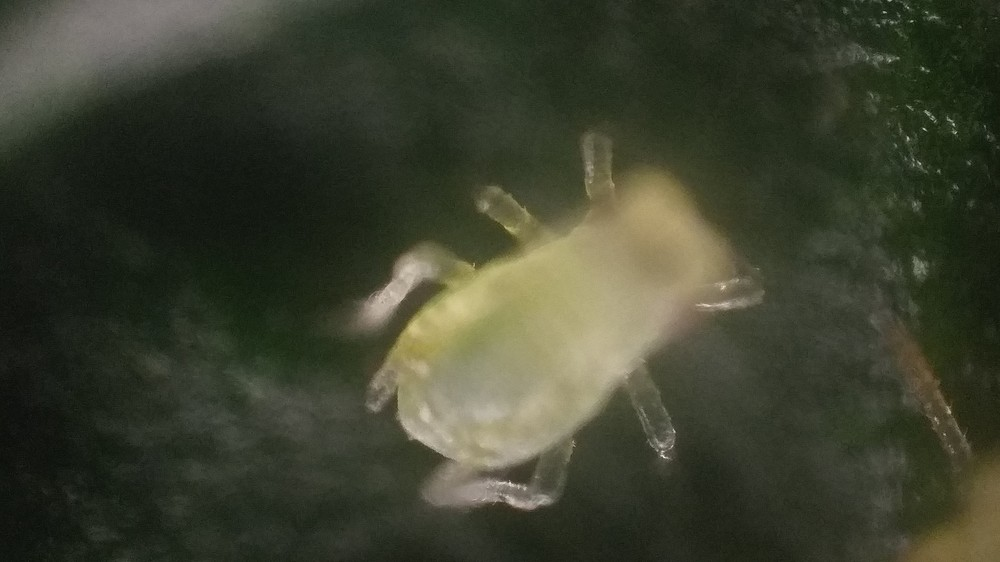Pulgon: (324, 129, 787, 531)
